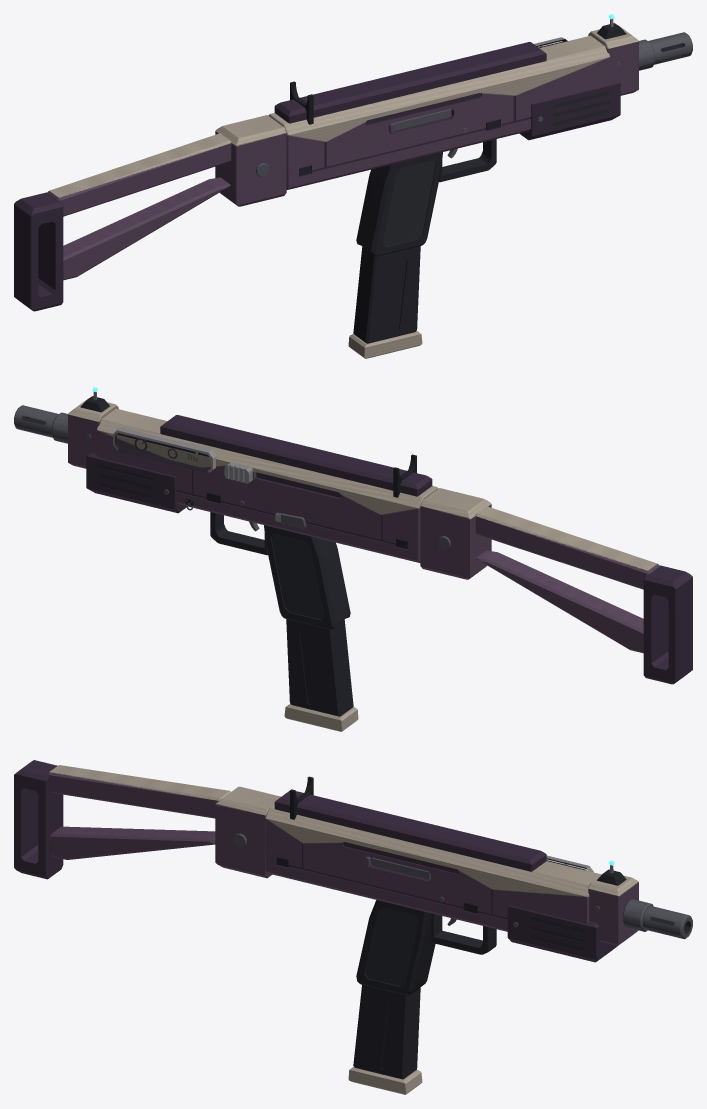
File: Stinger_Playback_v01.fbx
3 renders of one model, top to bottom at view 1: azimuth 30°, elevation 25°; view 2: azimuth 150°, elevation 25°; view 3: azimuth 330°, elevation 25°, orthographic.
Visible parts, largest first — view 1: Stinger_Receiver, Stinger_Stock, Stinger_Grip, Stinger_Mag, Stinger_Handguard, Stinger_Barrel, Stinger_Sights; view 2: Stinger_Receiver, Stinger_Stock, Stinger_Grip, Stinger_Mag, Stinger_Handguard, Playback_SmokedWindow, Stinger_Barrel, Playback_CassetteHousing, Stinger_Sights; view 3: Stinger_Receiver, Stinger_Stock, Stinger_Grip, Stinger_Mag, Stinger_Handguard, Stinger_Barrel, Stinger_Sights, Stinger_Bolt.
Part boxes in pixels (<box>): Stinger_Receiver: <box>268,25,638,189</box>; Stinger_Stock: <box>14,115,286,311</box>; Stinger_Grip: <box>356,139,496,256</box>; Stinger_Mag: <box>348,203,422,358</box>; Stinger_Handguard: <box>519,79,620,140</box>; Stinger_Barrel: <box>639,32,692,70</box>; Stinger_Sights: <box>290,14,626,124</box>; Stinger_Receiver: <box>68,398,438,562</box>; Stinger_Stock: <box>420,488,692,684</box>; Stinger_Grip: <box>210,512,350,629</box>; Stinger_Mag: <box>284,576,358,731</box>; Stinger_Handguard: <box>86,452,186,513</box>; Playback_SmokedWindow: <box>115,433,210,469</box>; Stinger_Barrel: <box>14,405,67,443</box>; Playback_CassetteHousing: <box>113,427,216,472</box>; Stinger_Sights: <box>80,387,416,497</box>; Stinger_Receiver: <box>265,790,638,945</box>; Stinger_Stock: <box>14,760,280,879</box>; Stinger_Grip: <box>356,900,496,995</box>; Stinger_Mag: <box>348,985,422,1094</box>; Stinger_Handguard: <box>507,905,617,962</box>; Stinger_Barrel: <box>622,899,692,938</box>; Stinger_Sights: <box>290,776,626,885</box>; Stinger_Bolt: <box>372,857,430,879</box>.
Bounding box in the file's own units: 267 × 107 × 20.2.
16 materials, 13 textured.
